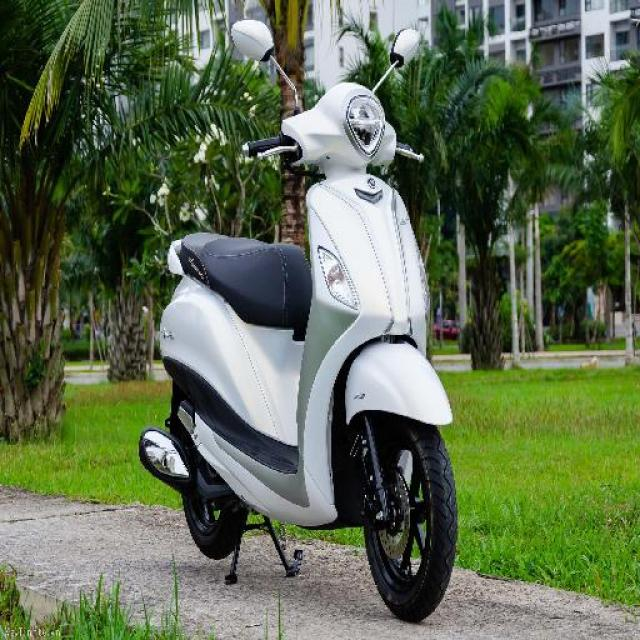All: (135, 70, 463, 625)
Head: (243, 84, 427, 184)
Tail: (162, 225, 230, 293)
